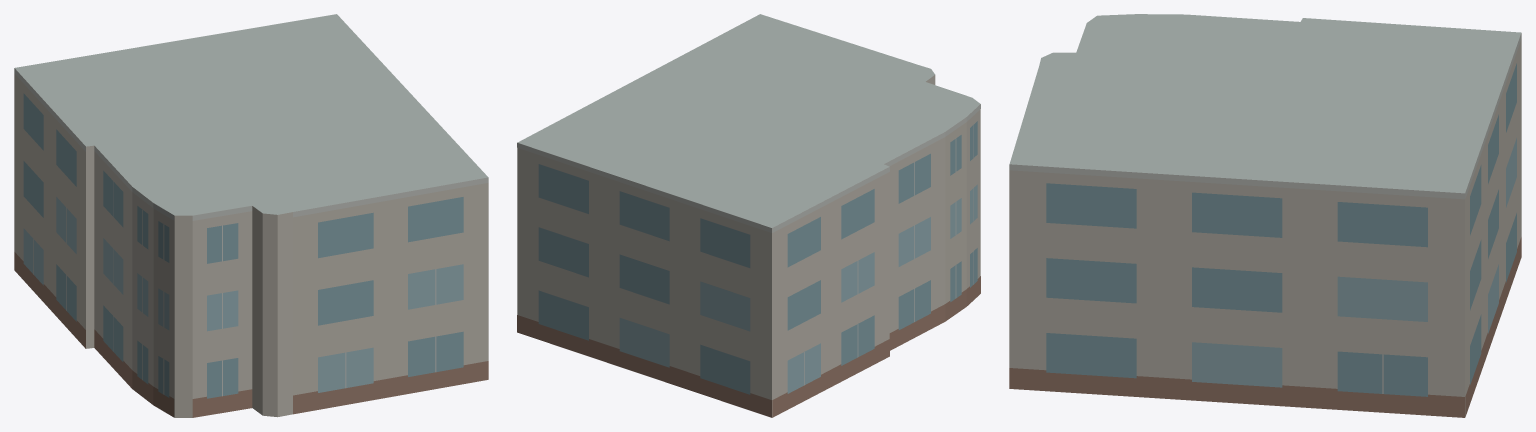
The model's file is survey-upis-32777615.glb.
3 renders of one model, left to right at view 1: azimuth 30°, elevation 25°; view 2: azimuth 150°, elevation 25°; view 3: azimuth 270°, elevation 25°, orthographic. The views are drawn at different scales.
Parts seen in each view (by area): view 1: survey-upis-32777615.tmp; view 2: survey-upis-32777615.tmp; view 3: survey-upis-32777615.tmp.
Boxes of the visible parts, x1,y1,x2,y2 form: survey-upis-32777615.tmp: (14,14,488,417); survey-upis-32777615.tmp: (517,14,980,417); survey-upis-32777615.tmp: (1009,14,1521,417).
Size of the model in its own units: 15.69 by 9.15 by 18.93.
